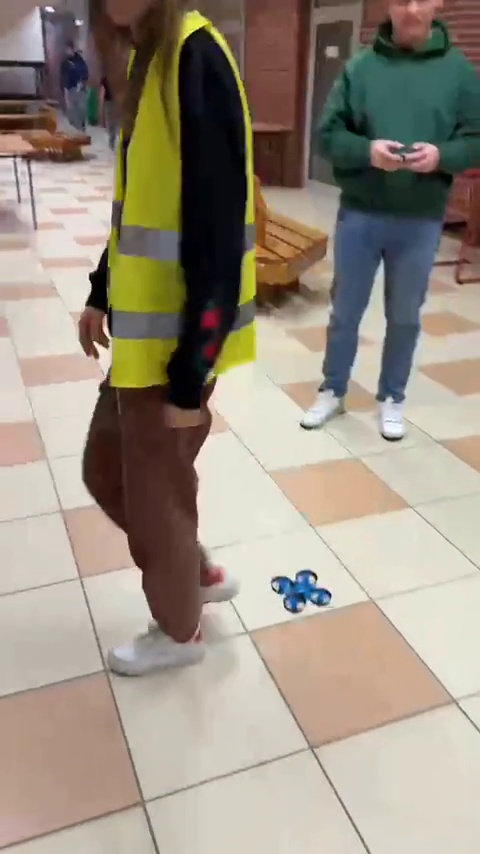drone: (267, 568, 331, 611)
no vest: (320, 5, 480, 477), (49, 39, 91, 127)
vest: (86, 3, 271, 668)
